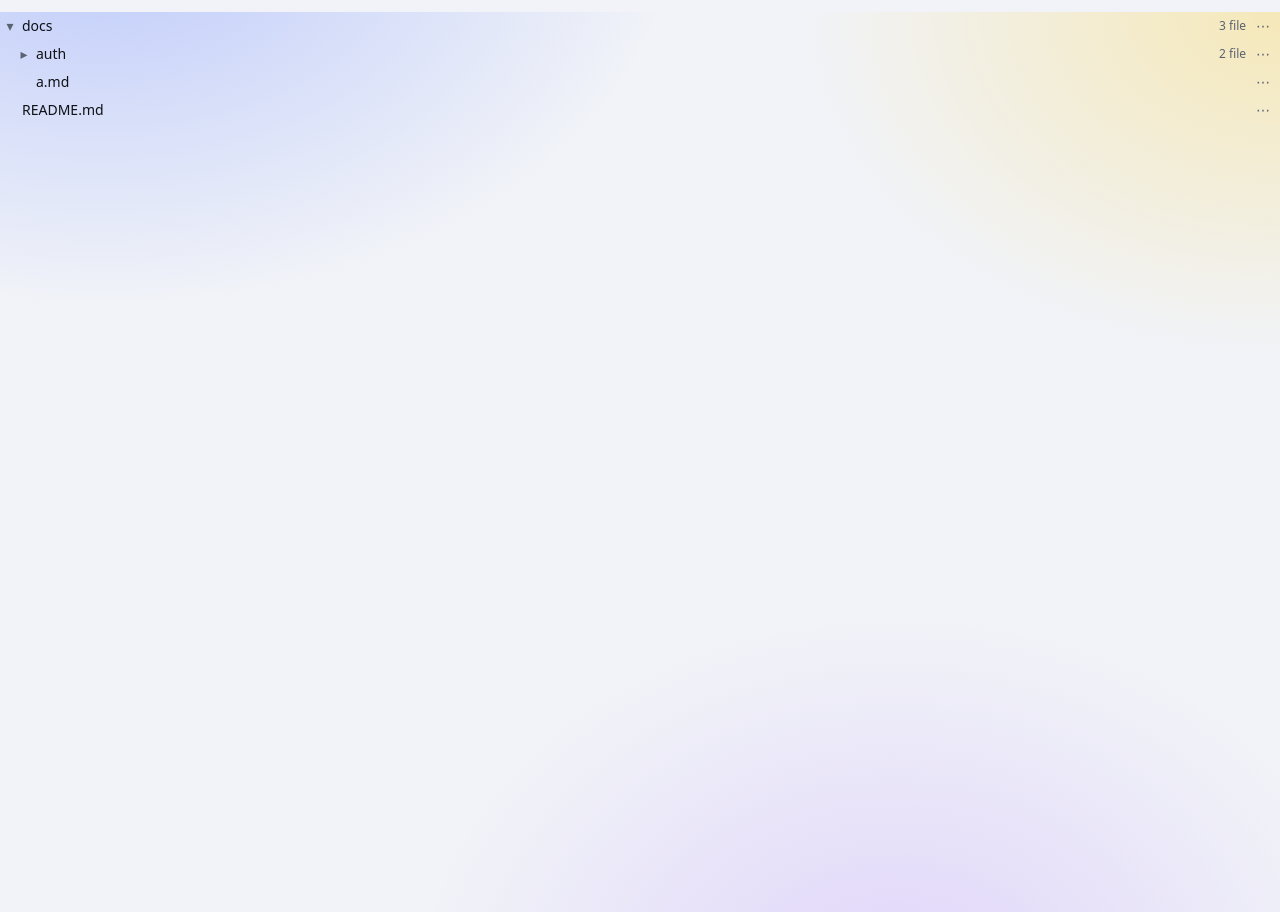
TreeView node menu › Escape closes the menu and returns focus to its button
Click the button named "Aksi untuk README.md" at (1263, 110), box [1250,98,1276,122]
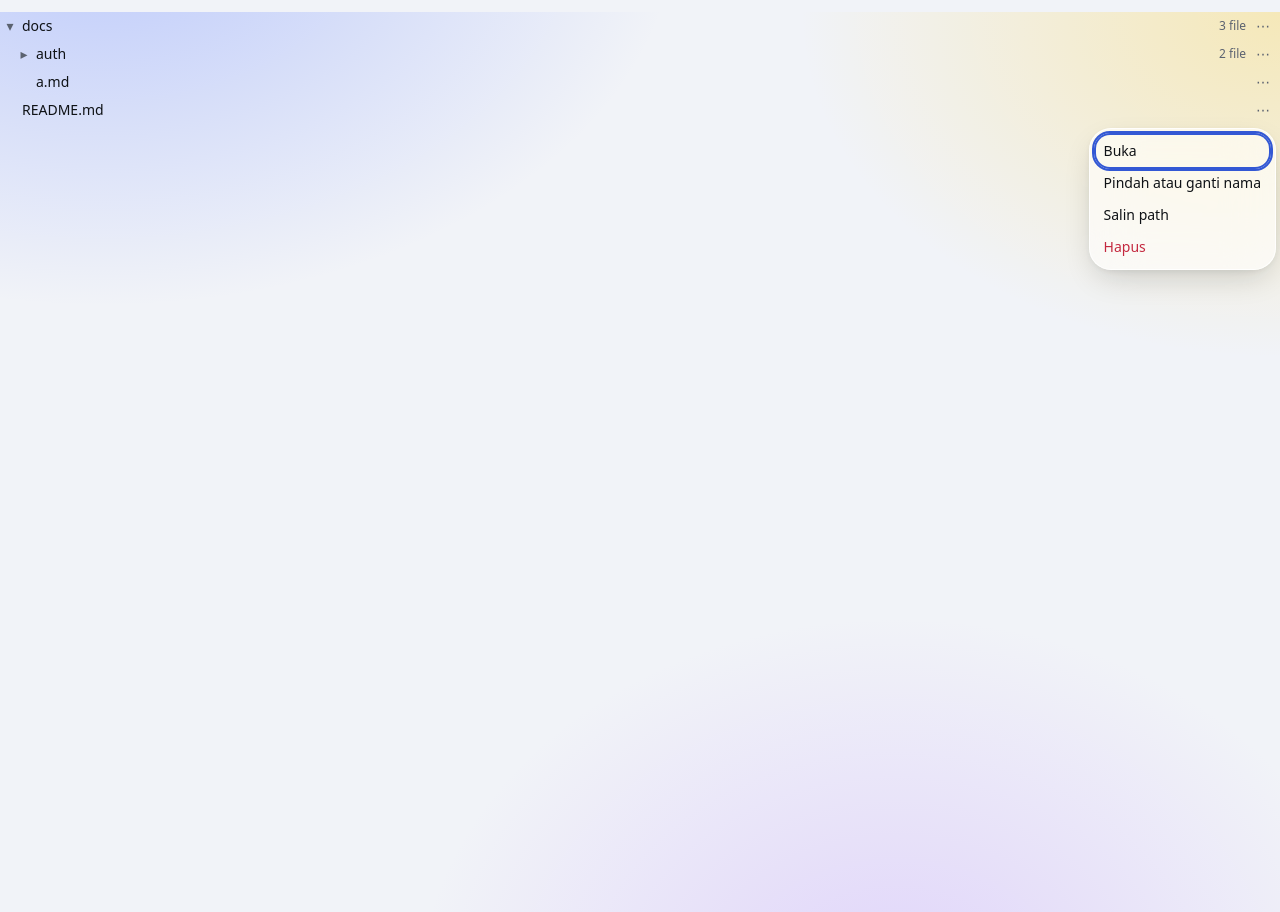
Press Escape
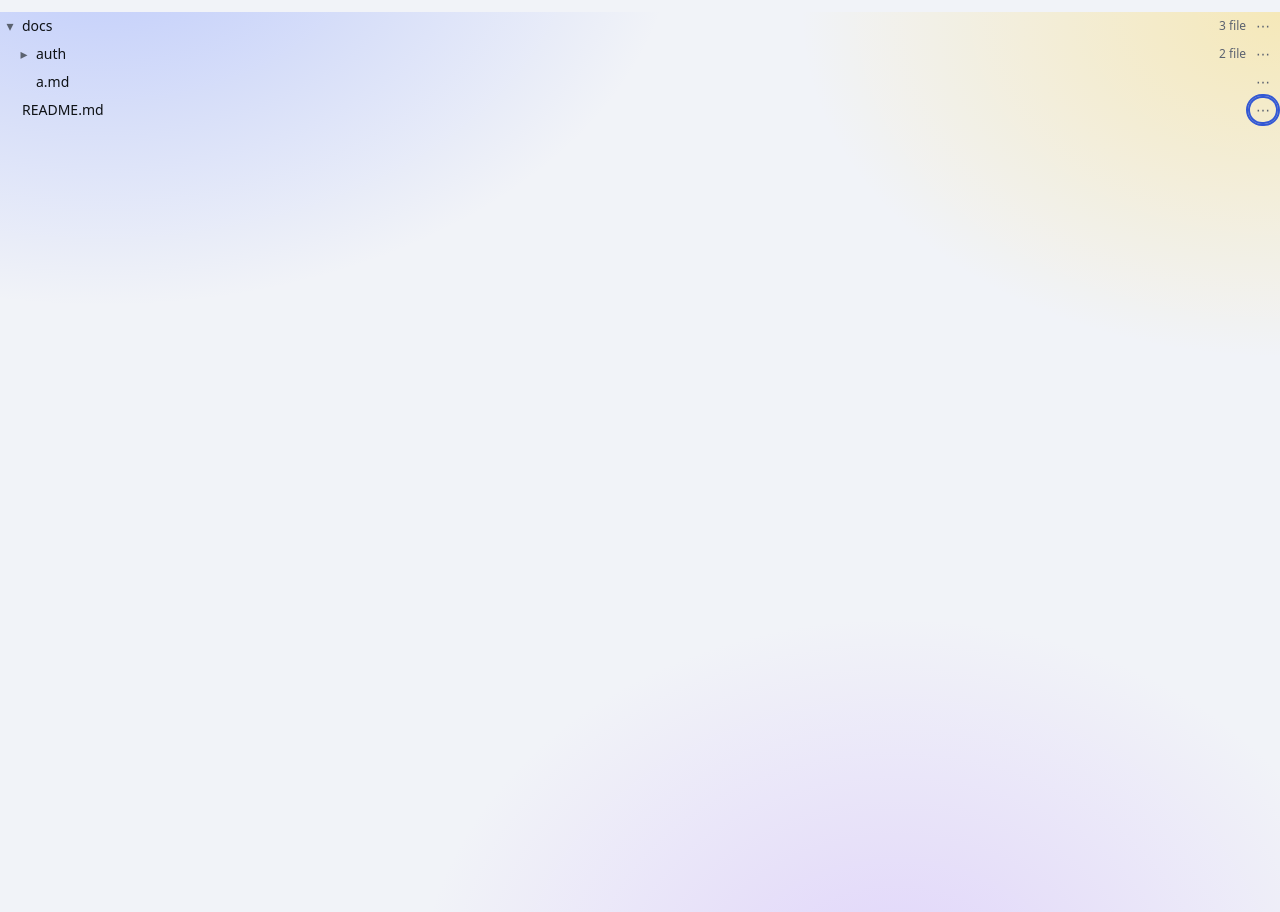
expect the menu is gone: met
expect the button named "Aksi untuk README.md" is collapsed: met, box [1250,98,1276,122]
